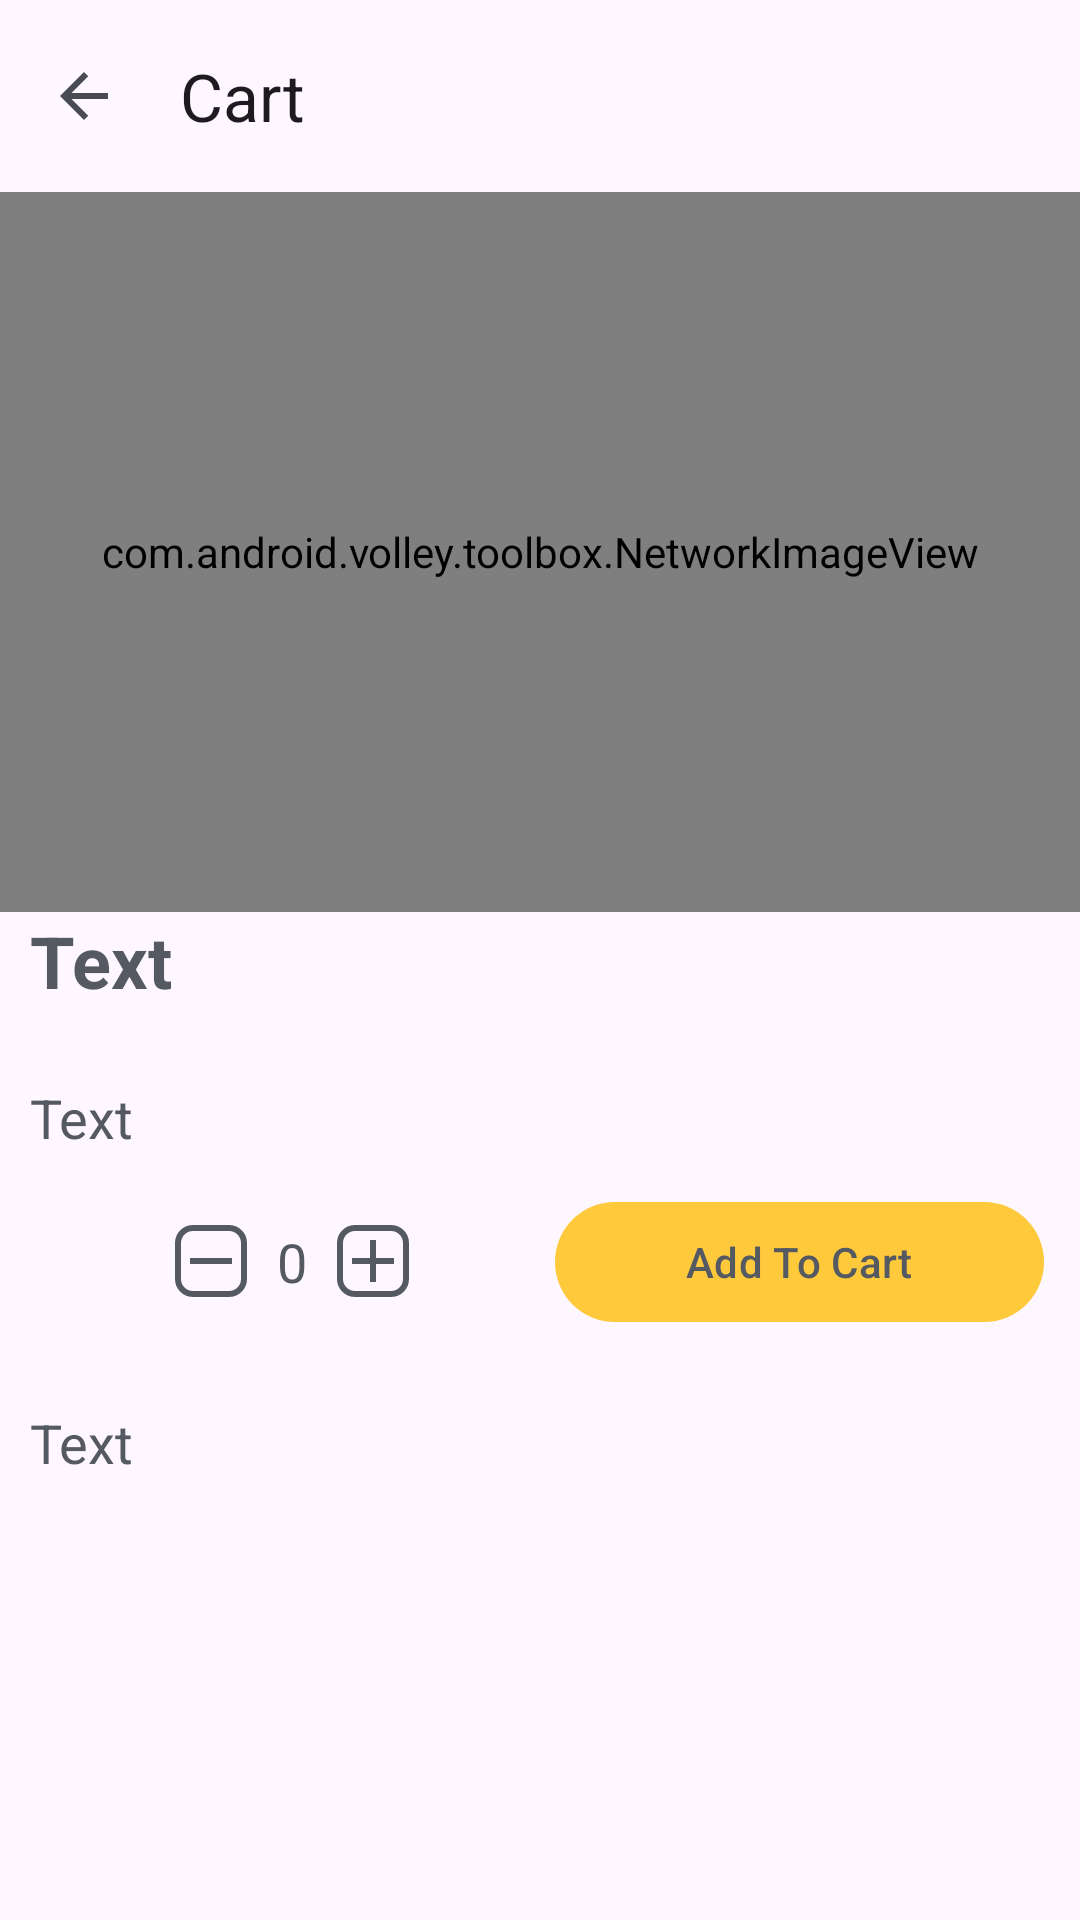

Screen size 1080x1920. Icon name, then its center in pixels as [x,y]:
remove: [211,1261]
